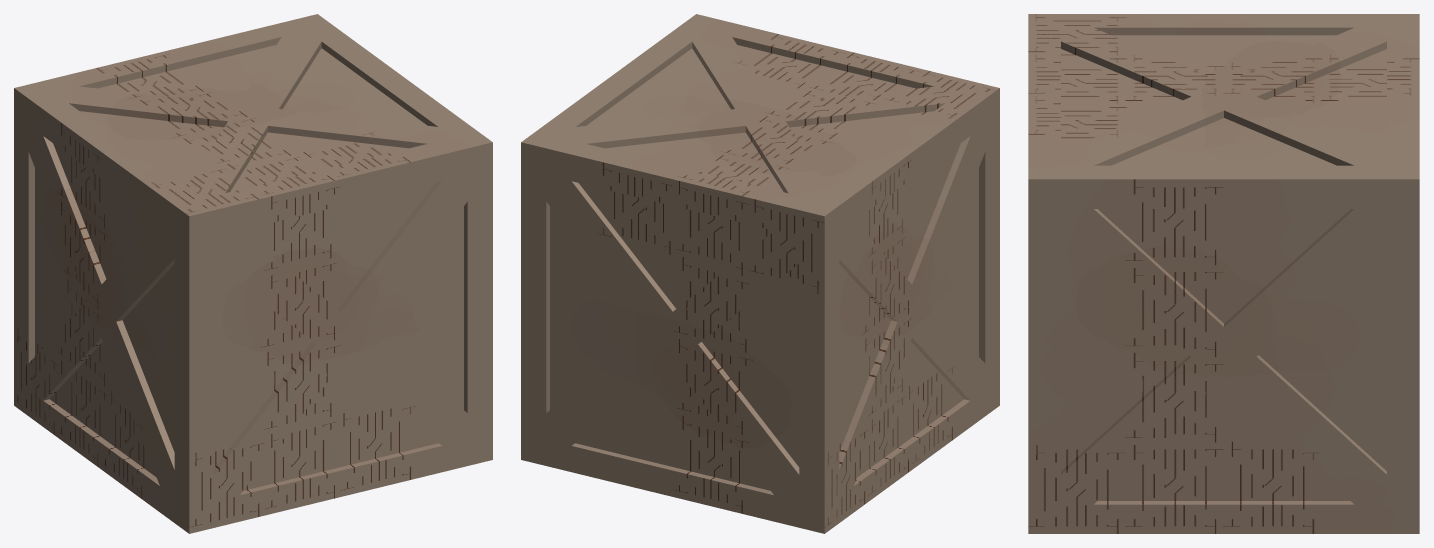
Rendered from Crate.obj.
The picture shows the model from 3 angles, left to right: view 1: azimuth 30°, elevation 25°; view 2: azimuth 150°, elevation 25°; view 3: azimuth 270°, elevation 25°; orthographic projection. The views are drawn at different scales.
Parts seen in each view (by area): view 1: pCube1; view 2: pCube1; view 3: pCube1.
Part boxes in pixels (<box>): pCube1: <box>14,14,492,533</box>; pCube1: <box>521,14,999,533</box>; pCube1: <box>1028,14,1419,533</box>.
Size of the model in its own units: 2 by 2 by 2.
Materials: 1 (1 with a texture image).
